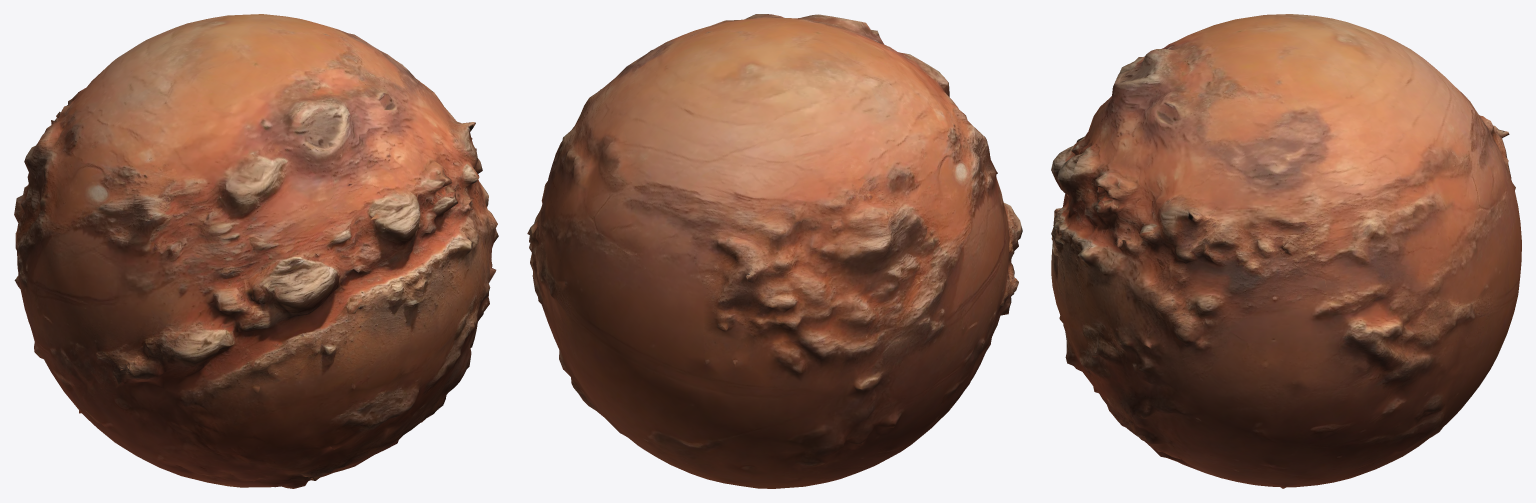
Rendered from dry_planet_4.glb.
3 views of the same model, side by side, from view 1: azimuth 30°, elevation 25°; view 2: azimuth 150°, elevation 25°; view 3: azimuth 270°, elevation 25° (orthographic).
Visible parts, largest first — view 1: Mesh_0.017; view 2: Mesh_0.017; view 3: Mesh_0.017.
Boxes of the visible parts, x1,y1,x2,y2 form: Mesh_0.017: (14, 14, 498, 488); Mesh_0.017: (527, 14, 1022, 488); Mesh_0.017: (1051, 14, 1521, 488).
Bounding box in the file's own units: 2 × 2 × 1.99.
1 material, 1 textured.
